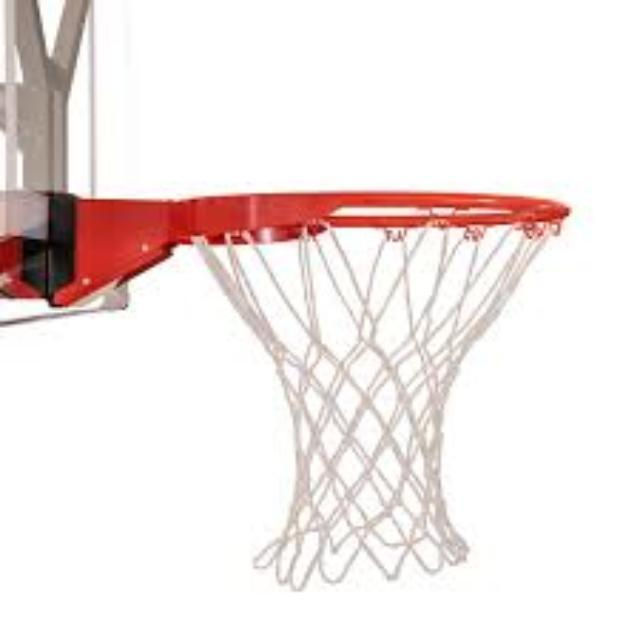rim: (180, 191, 568, 589)
